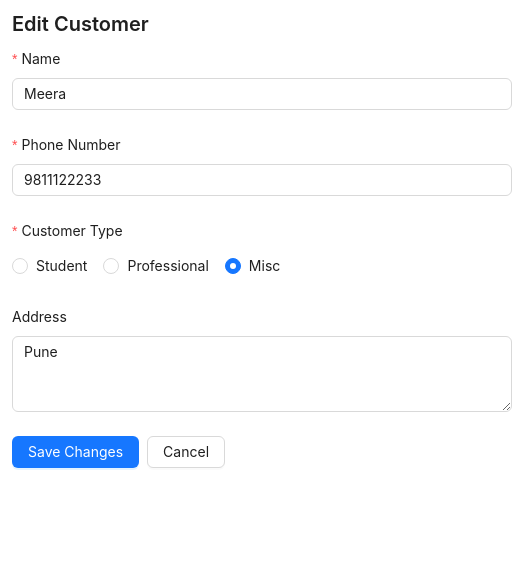
Scenario: EditCustomerPage › blocks submission client-side when switching to PROFESSIONAL with no org name
Expected: the field showing "Meera" is shown, top-left (12, 78), bottom-right (512, 110)
Click the radio button labelled "Professional": (160, 266) top-left (103, 255), bottom-right (217, 277)
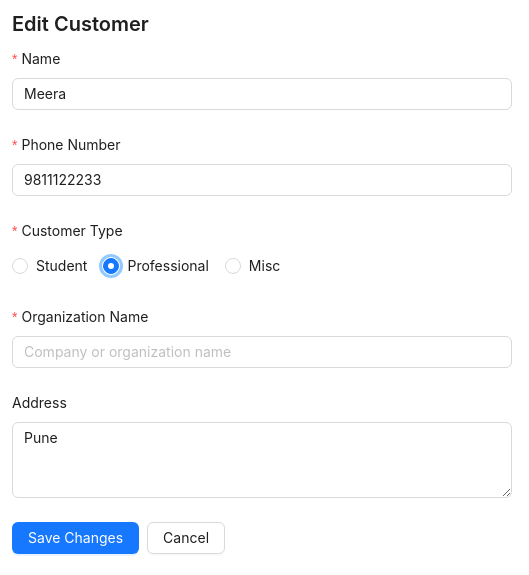
Click the button "Save Changes": (76, 538) top-left (12, 522), bottom-right (139, 554)
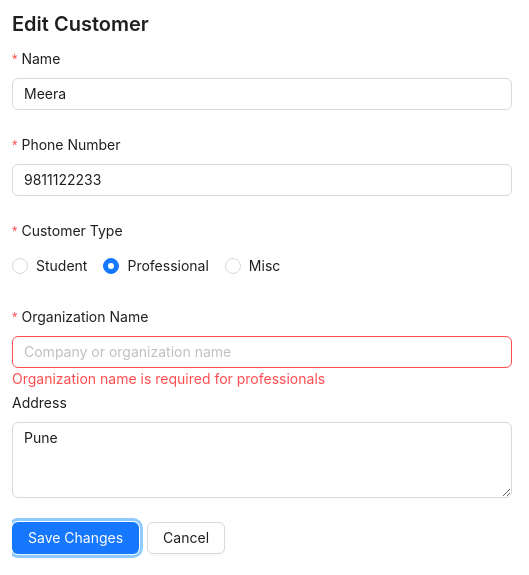
Expected: the text "Organization name is required for professionals" is shown, top-left (12, 370), bottom-right (325, 387)
